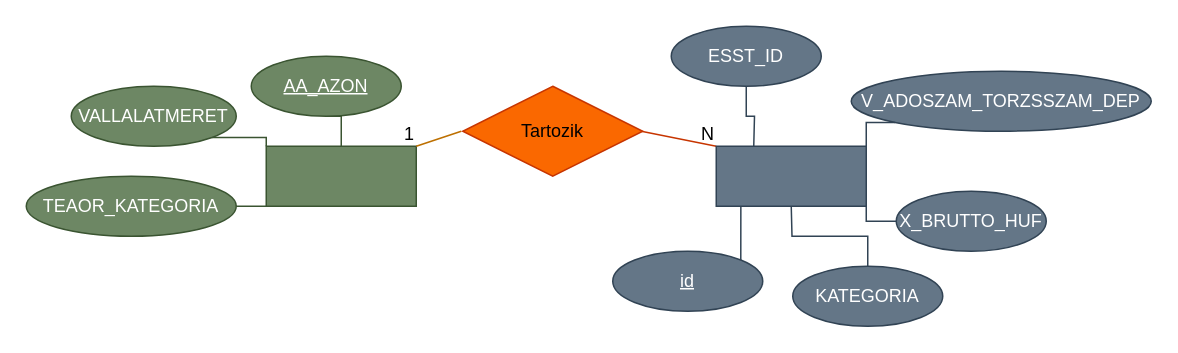
This 1178x353 diagram has some shape labels left out. Here are the shapes that lost their labels. From the top down, the box of each, then its label:
(265, 145, 416, 206): gazdmut
(715, 145, 866, 206): szamla
